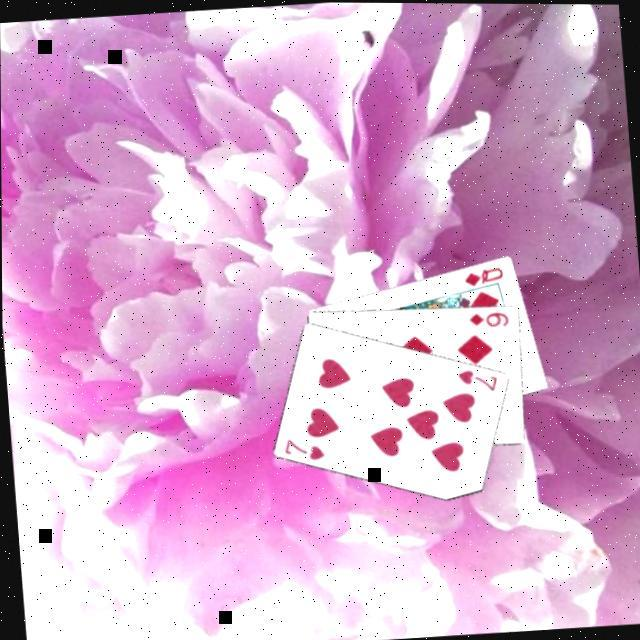6D: (464, 308, 510, 331)
7H: (452, 364, 500, 396), (278, 433, 326, 465)
QD: (458, 262, 506, 289)
